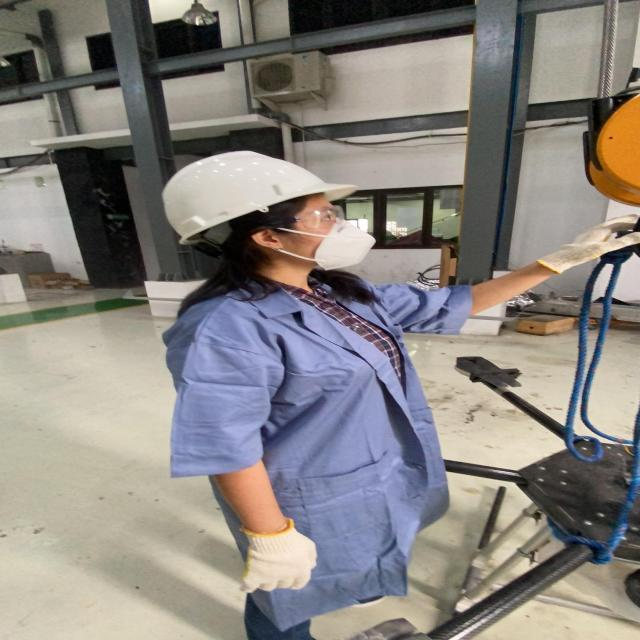glasses: (285, 201, 348, 229)
